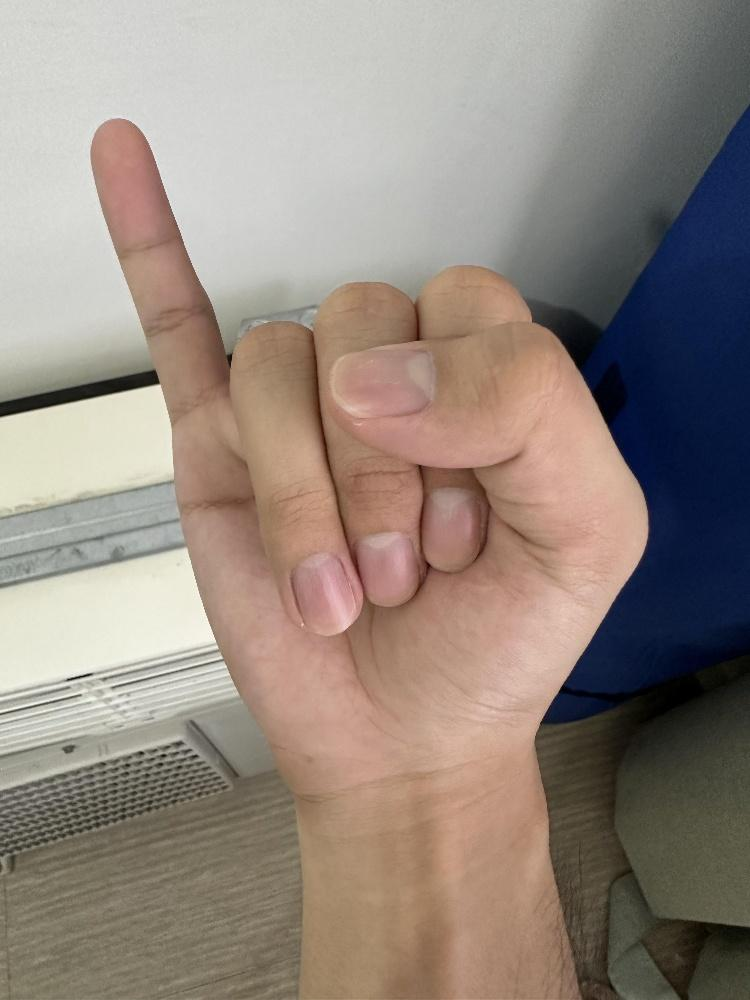i: (87, 113, 651, 800)
